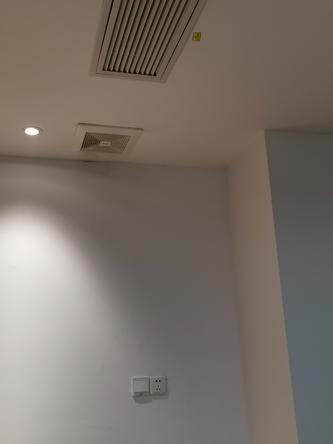switch: (133, 375, 150, 394)
